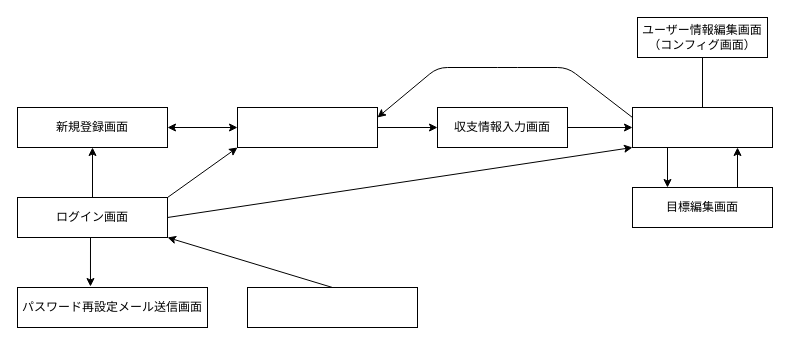
Image size: 798x345. Some labels were removed from this diagram. The shapes that lost their labels are listed below. From the top down, each one's box as (x1, y1, x2, y2) in pixels, then its label:
(236, 106, 378, 148): 目標設定画面
(632, 106, 772, 148): 進捗管理画面 （戦闘画面）
(246, 286, 418, 328): パスワード再設定画面
